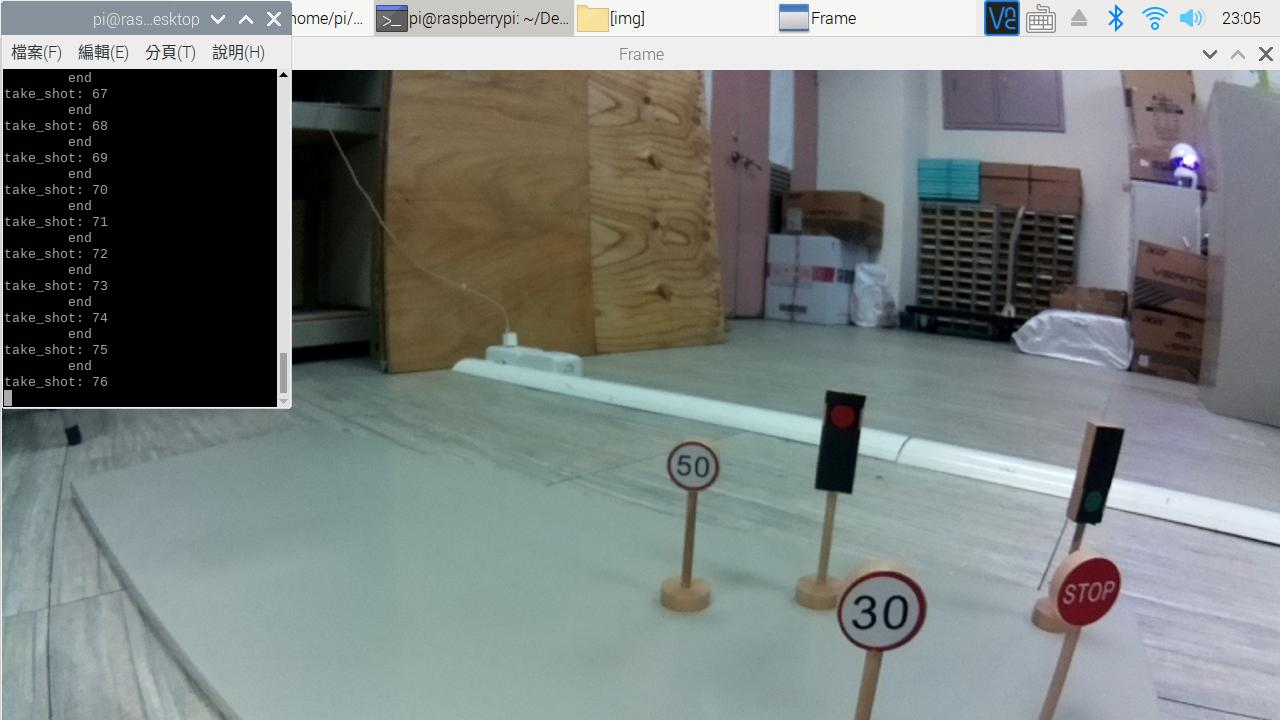Green: (1059, 415, 1124, 527)
Red: (810, 387, 871, 495)
Speed30: (832, 570, 930, 656)
Speed50: (671, 437, 728, 494)
Stop: (1043, 552, 1125, 629)
